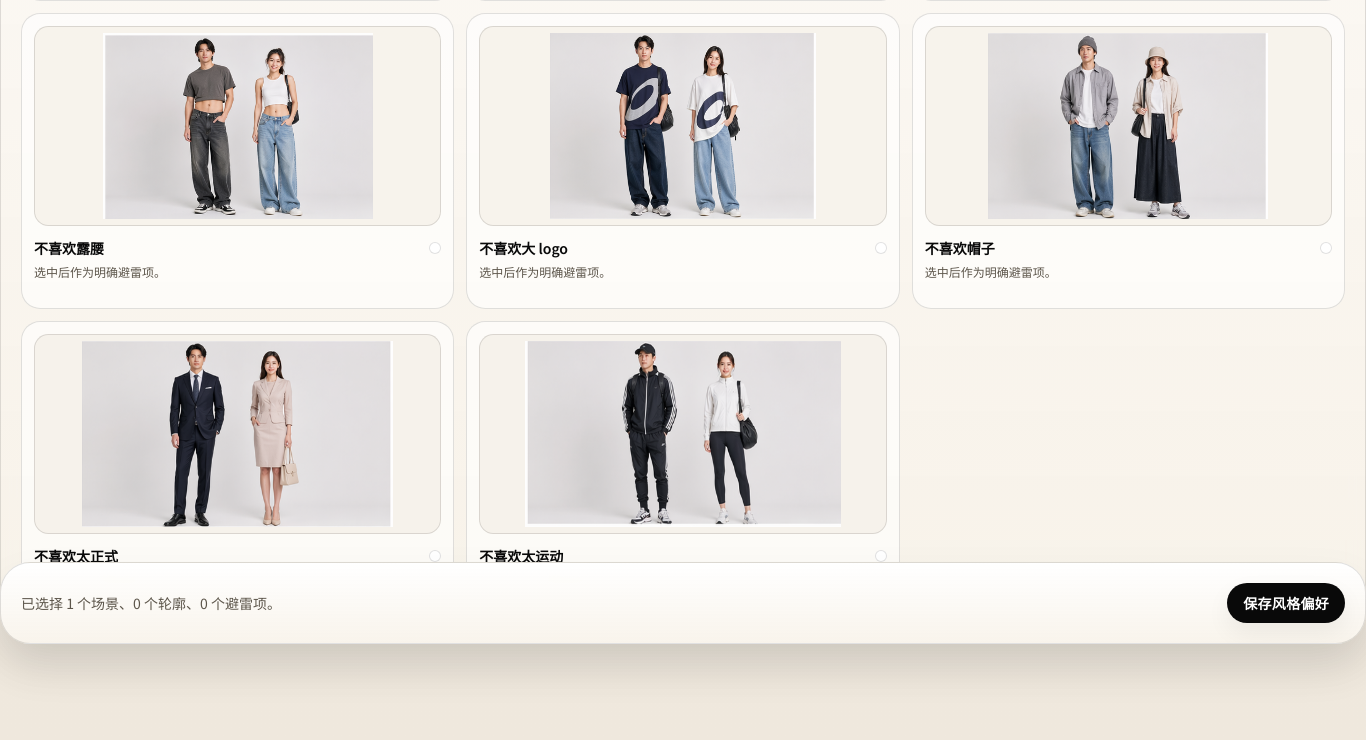
it: StyleQuestionnairePage › shows an inline save error from the action
The width and height of the screenshot is (1366, 740).
(page scrolled)
Click the button "保存风格偏好" at (1286, 603), box [1227,583,1345,623]
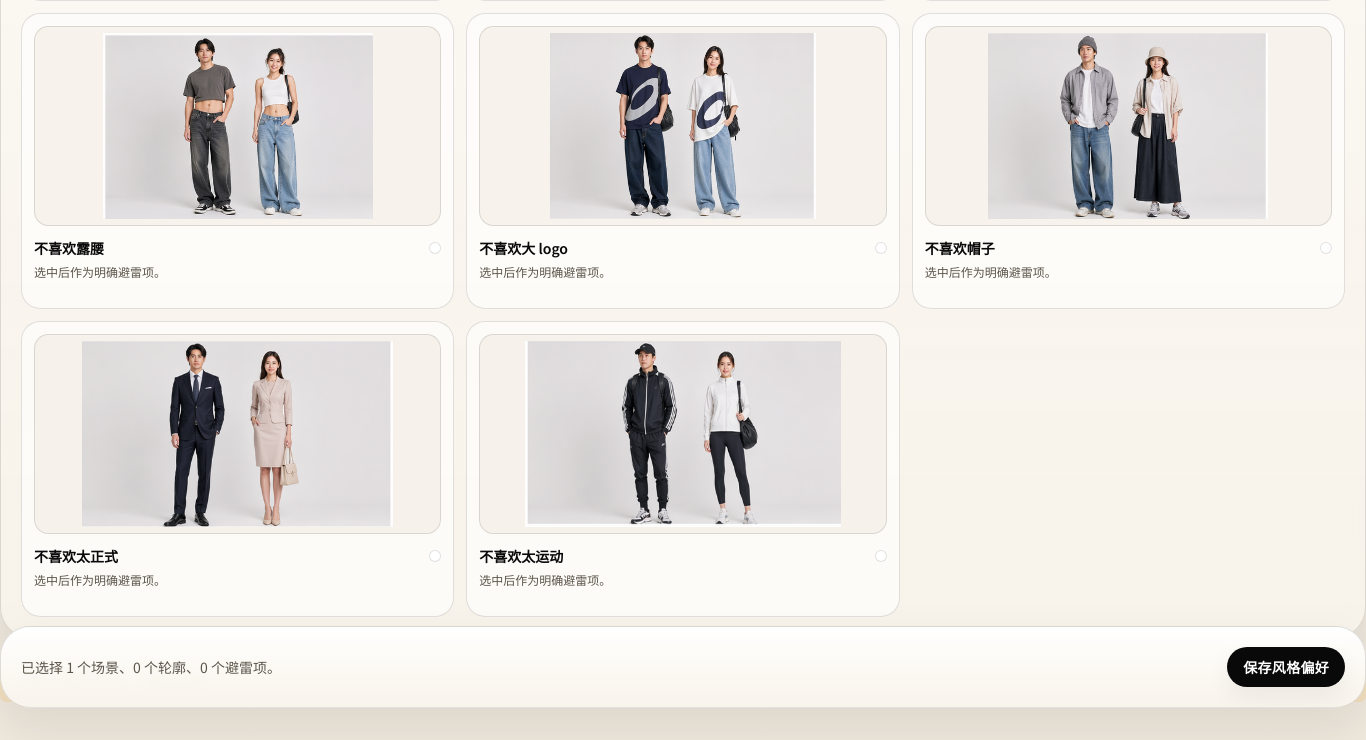
Expected: the text "风格问卷保存失败，请稍后重试" is shown, [0,658,1365,702]
